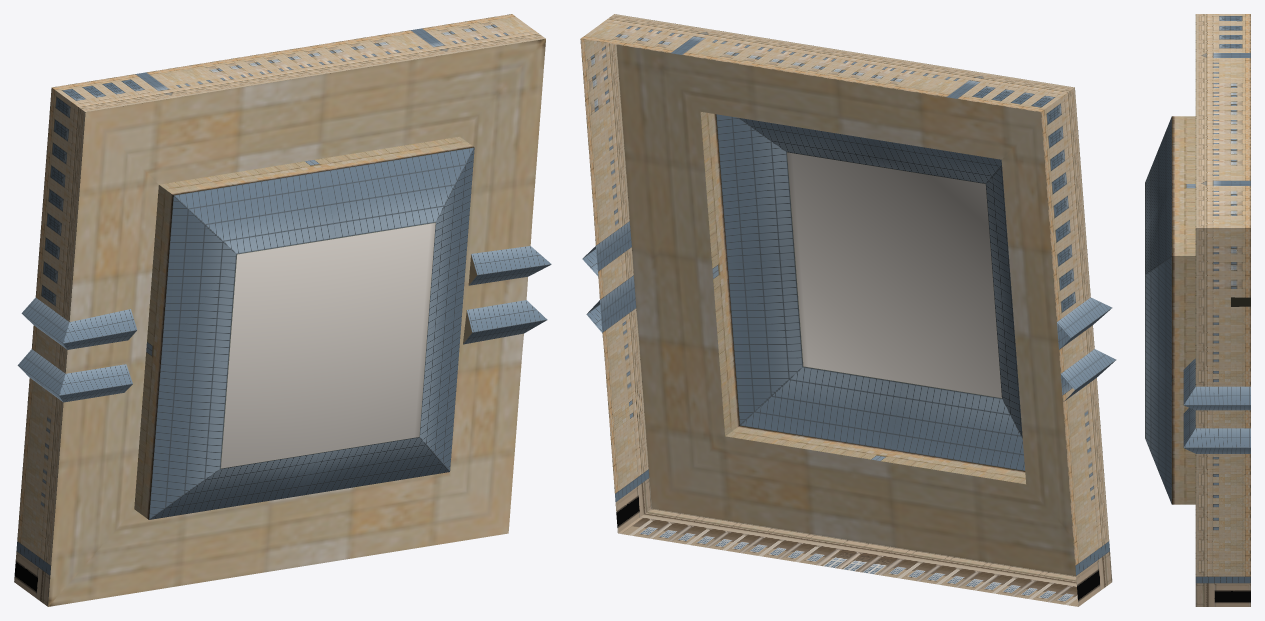
The model's file is DEU_601_KARLSRUHE_KONGRES_L.OBJ.
The picture shows the model from 3 angles, left to right: view 1: azimuth 30°, elevation 25°; view 2: azimuth 150°, elevation 25°; view 3: azimuth 270°, elevation 25°; orthographic projection. The views are drawn at different scales.
Visible parts, largest first — view 1: DEU_601_KARLSRUHE_KONGRES_L; view 2: DEU_601_KARLSRUHE_KONGRES_L; view 3: DEU_601_KARLSRUHE_KONGRES_L.
Boxes of the visible parts, left/top/right/bottom form: DEU_601_KARLSRUHE_KONGRES_L: left=14, top=14, right=551, bottom=606; DEU_601_KARLSRUHE_KONGRES_L: left=580, top=14, right=1116, bottom=606; DEU_601_KARLSRUHE_KONGRES_L: left=1145, top=14, right=1250, bottom=606.
Bounding box in the file's own units: 88.92 × 89.48 × 20.15.
Materials: 1 (1 with a texture image).
